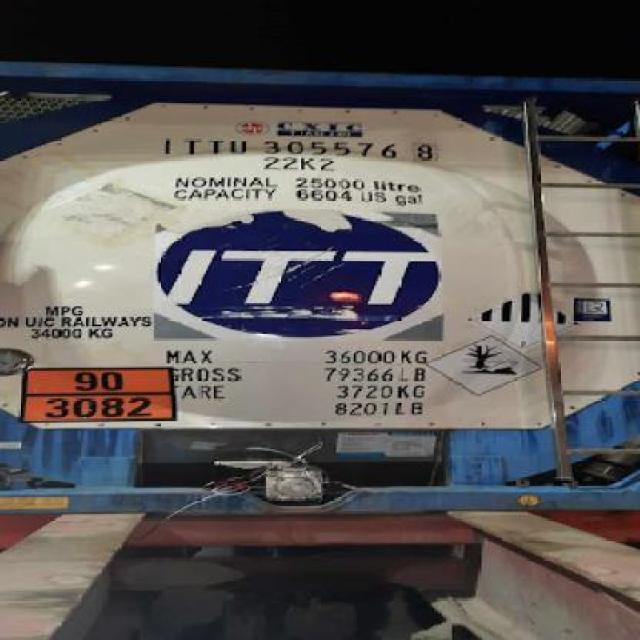ISO: (263, 156, 339, 172)
container_number: (160, 135, 448, 157)
